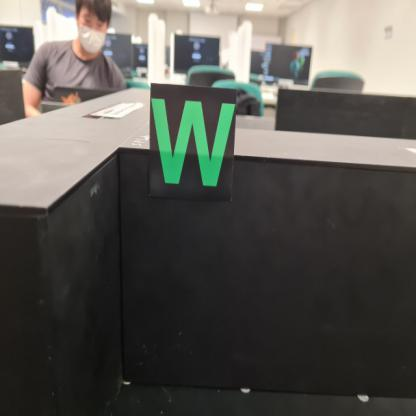w: (150, 82, 238, 203)
